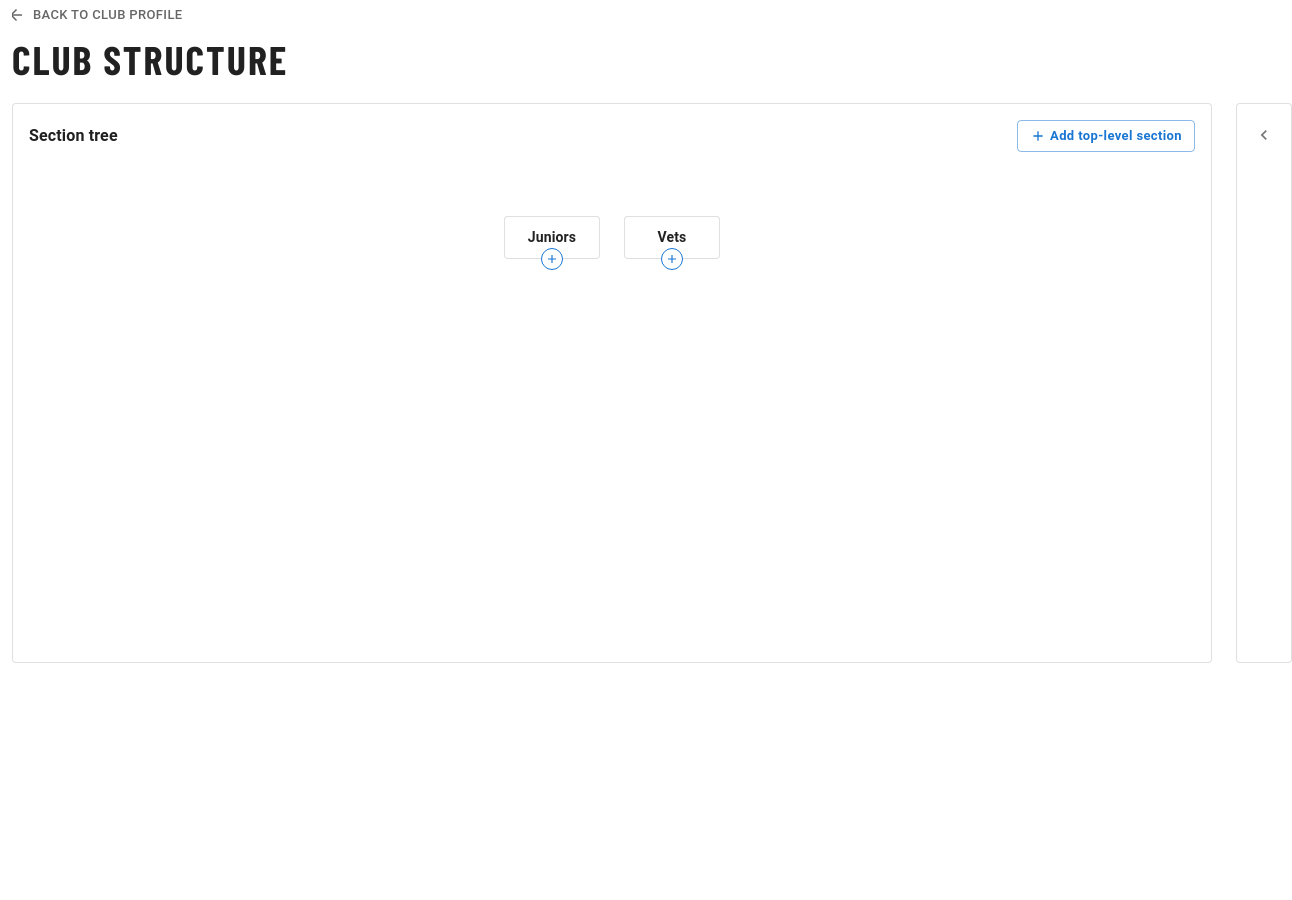
Test: ClubStructure › collapsing the detail panel hides its body but keeps the header, and selecting a node reopens it
This screenshot has width=1292, height=900.
Click the button "Juniors" at (552, 237), box [504, 216, 600, 259]
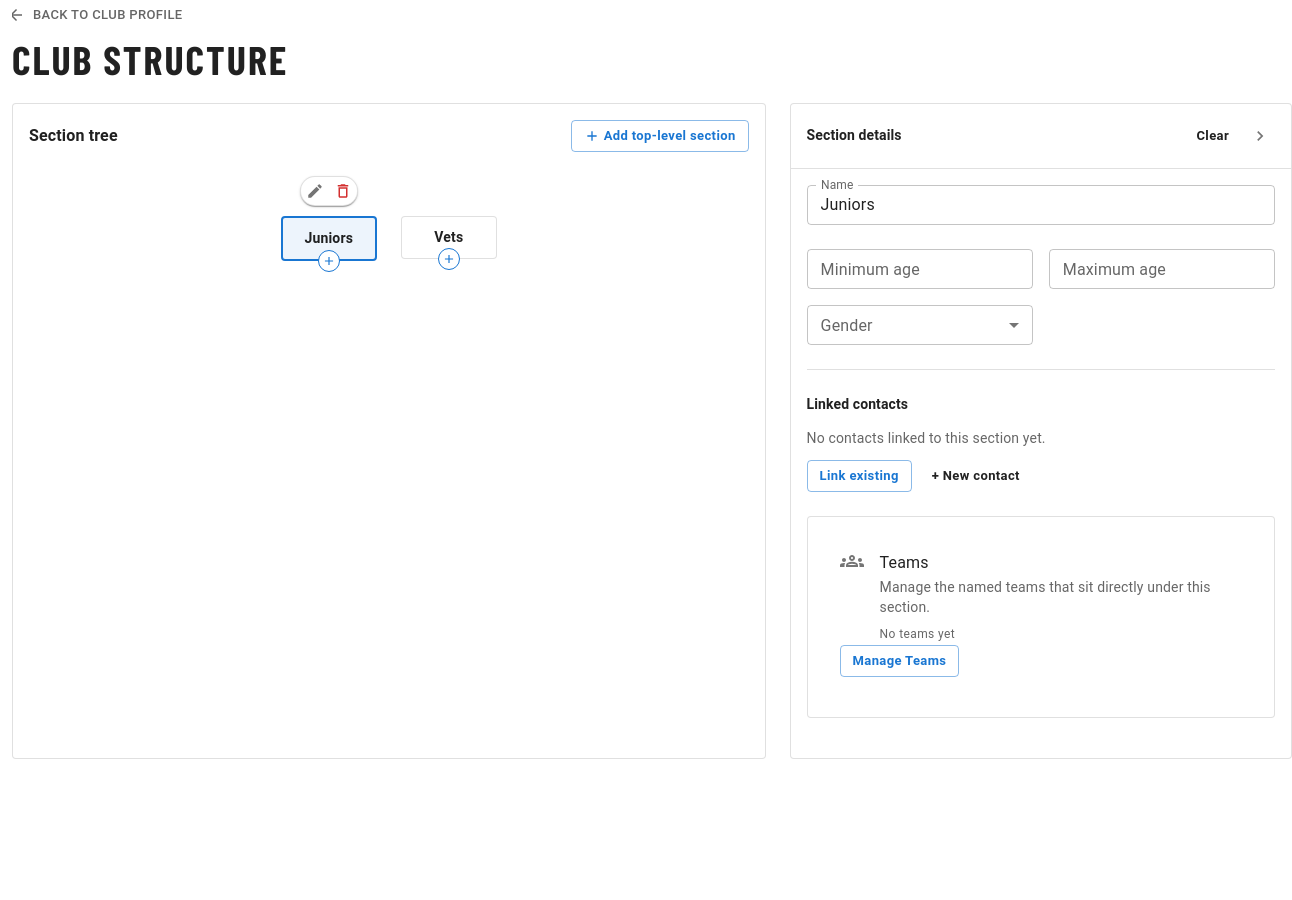
Expected: the field labelled "Name" is shown, [807, 185, 1275, 225]
Click the button named "Collapse section details" at (1260, 136), box [1245, 121, 1275, 151]
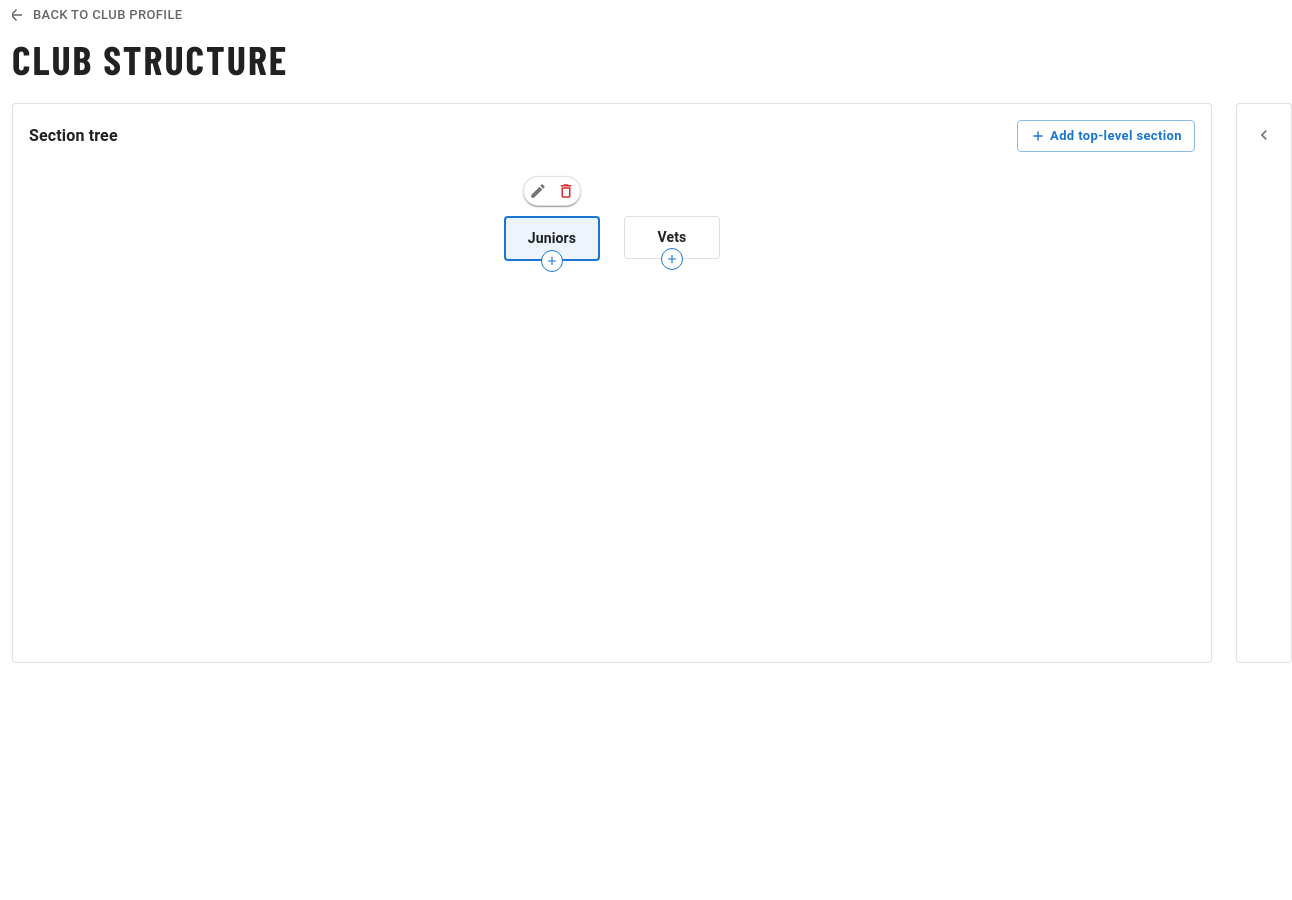
Expected: the label labelled "Name" is gone
Expected: the button named "Expand section details" is shown, [1249, 120, 1279, 150]
Click the button "Vets" at (672, 237), box [624, 216, 720, 259]
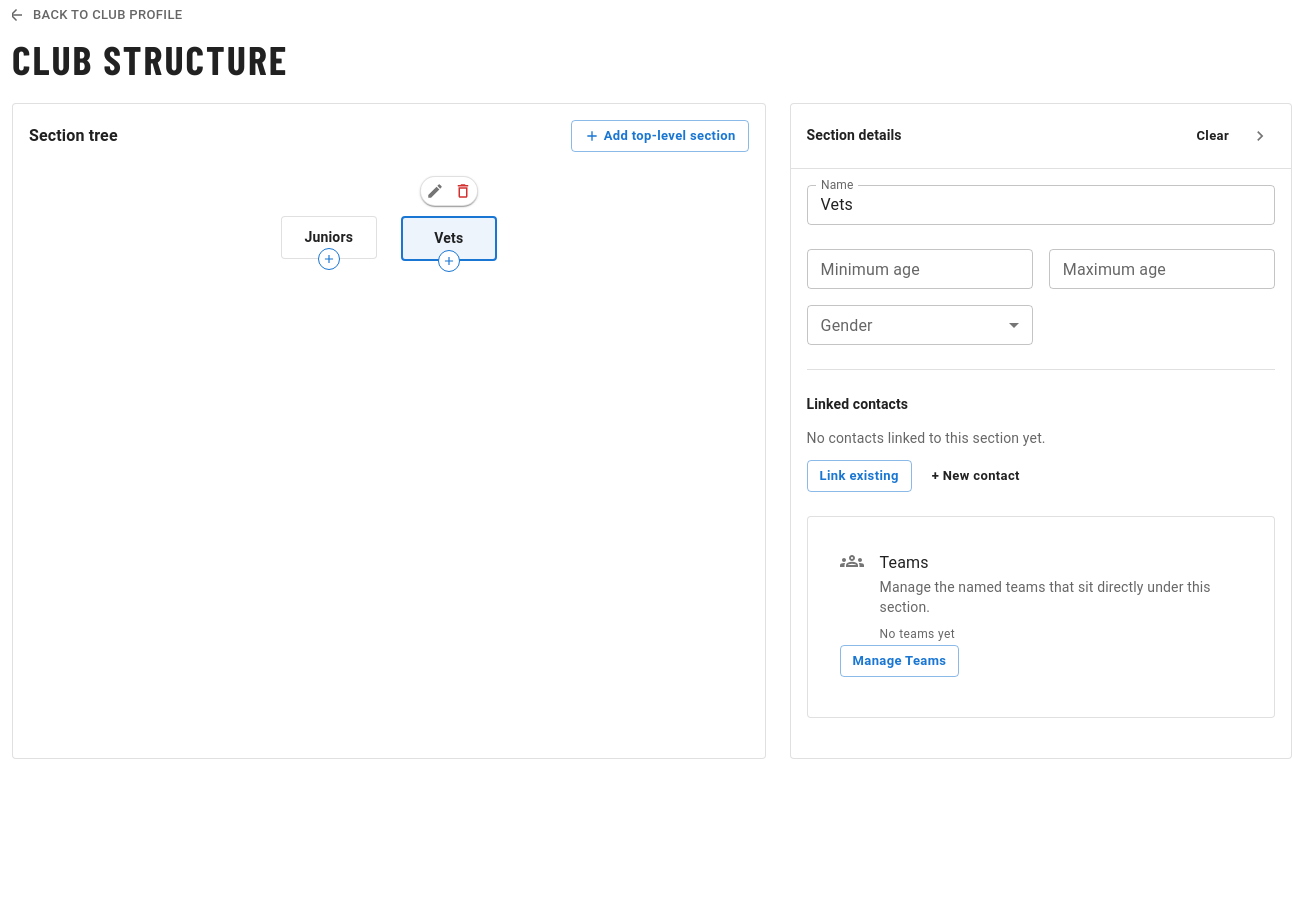
Expected: the field labelled "Name" holds "Vets", [807, 185, 1275, 225]
